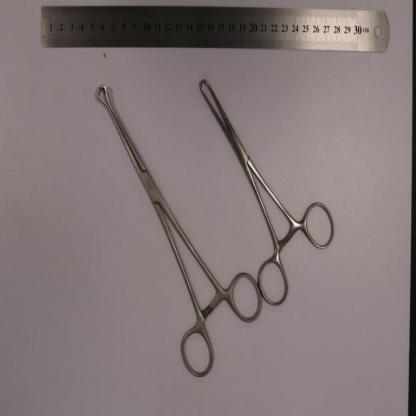8 Babcock Tissue Forceps: (96, 82, 264, 380)
Allis Tissue Forceps: (198, 77, 337, 308)
